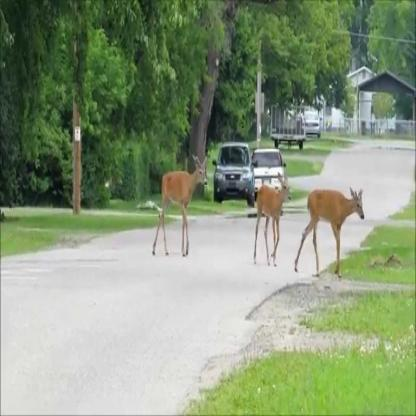Deer: (293, 186, 365, 280), (150, 154, 209, 259), (252, 171, 292, 268)
